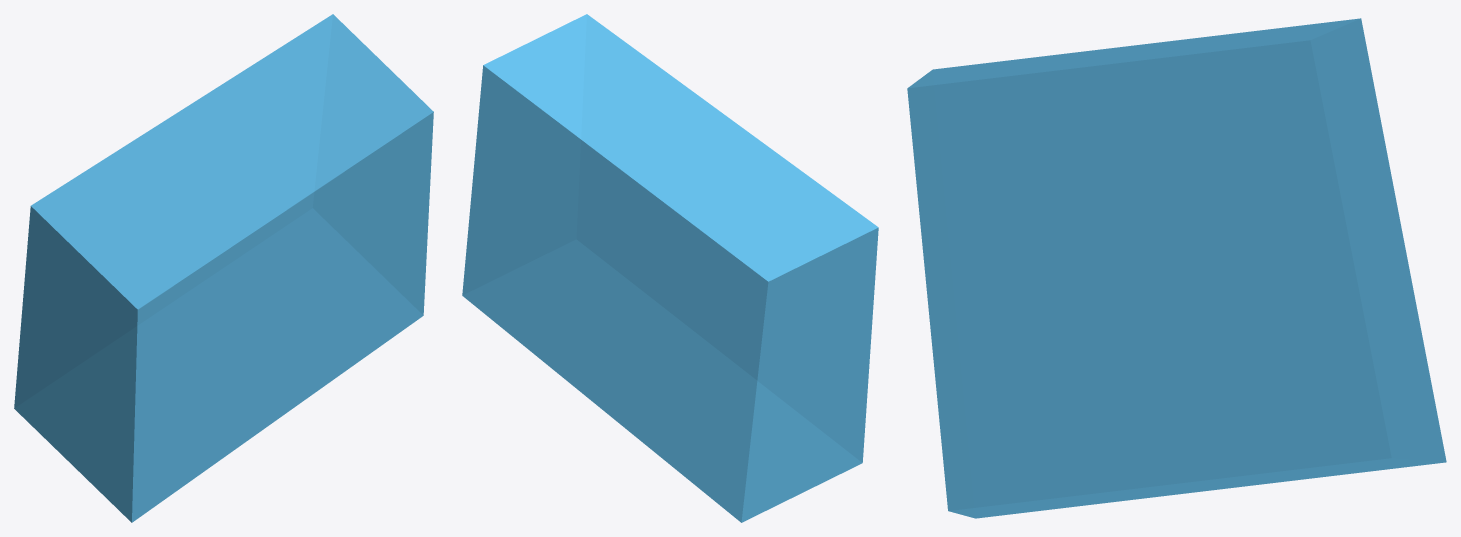
The model's file is Event_421556567_HErechit_44.fbx.
3 views of the same model, side by side, from view 1: azimuth 30°, elevation 25°; view 2: azimuth 150°, elevation 25°; view 3: azimuth 270°, elevation 25° (orthographic). The views are drawn at different scales.
Parts seen in each view (by area): view 1: Model; view 2: Model; view 3: Model.
Part boxes in pixels (x1,y1,x2,y2): Model: (14, 14, 433, 522); Model: (462, 14, 878, 522); Model: (907, 18, 1446, 518).
Bounding box in the file's own units: 0.6806 × 0.8491 × 0.5488.
